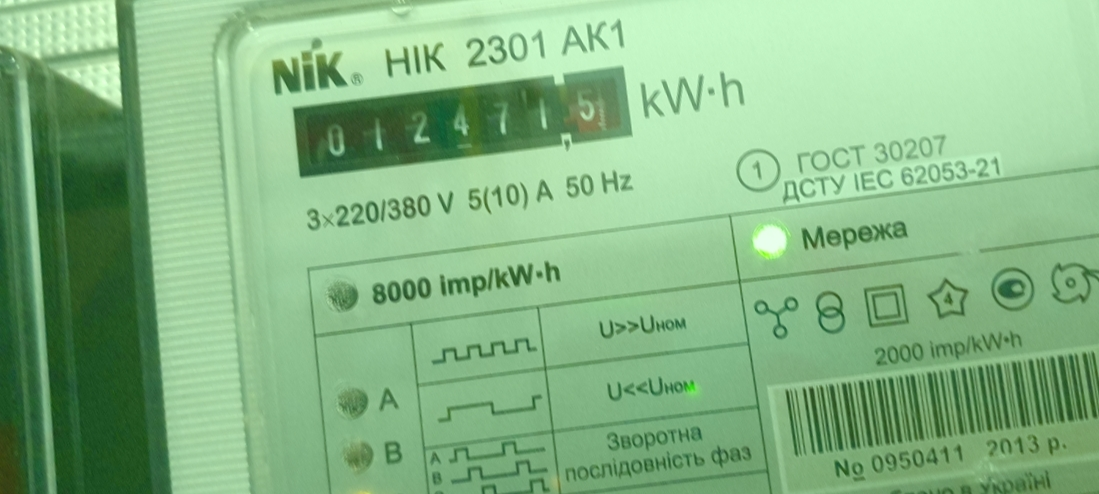0: (323, 119, 350, 158)
1: (372, 115, 387, 152), (536, 94, 550, 131)
2: (410, 107, 434, 146)
4: (451, 100, 473, 138)
5: (575, 84, 600, 123)
7: (490, 97, 514, 137)
screen: (281, 55, 647, 187)
